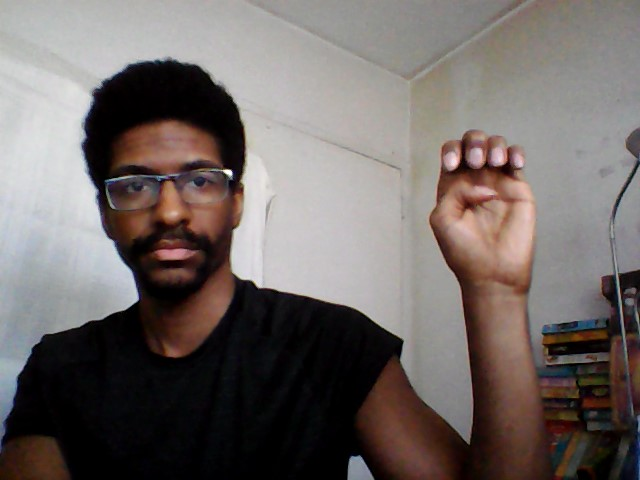e: (427, 124, 541, 296)
